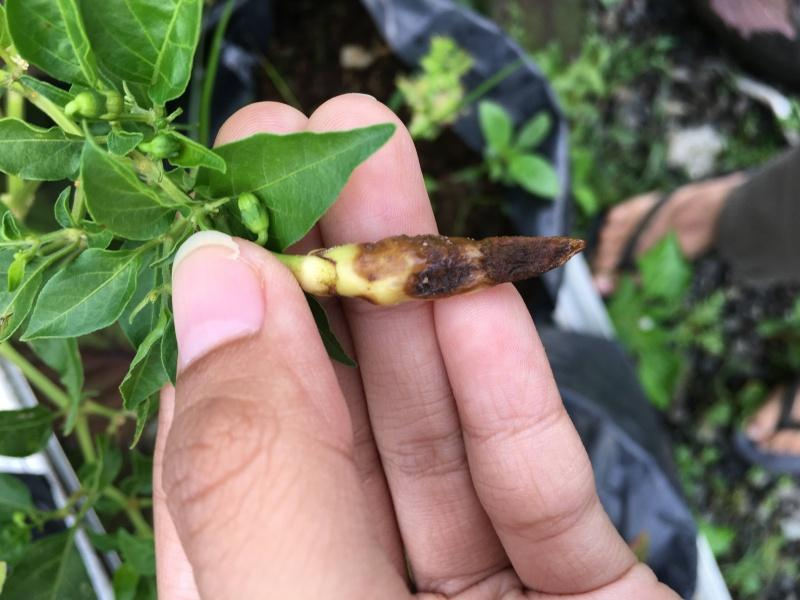antraknosa: (310, 229, 588, 308)
